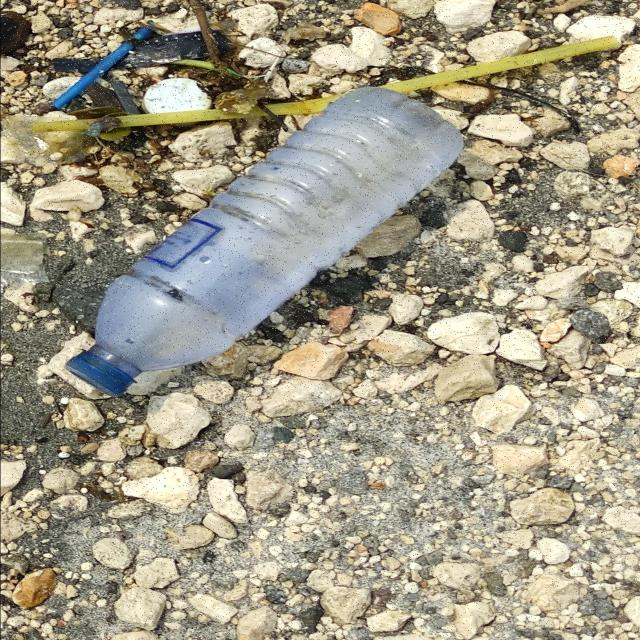plastic_waste: (66, 86, 466, 400)
